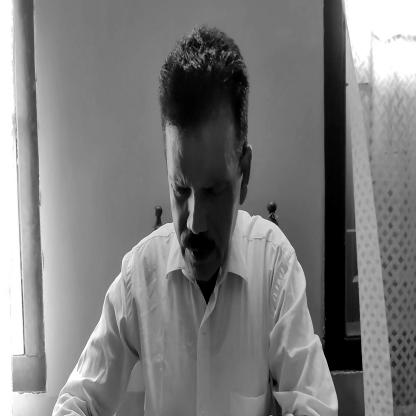Normal: (164, 49, 252, 286)
